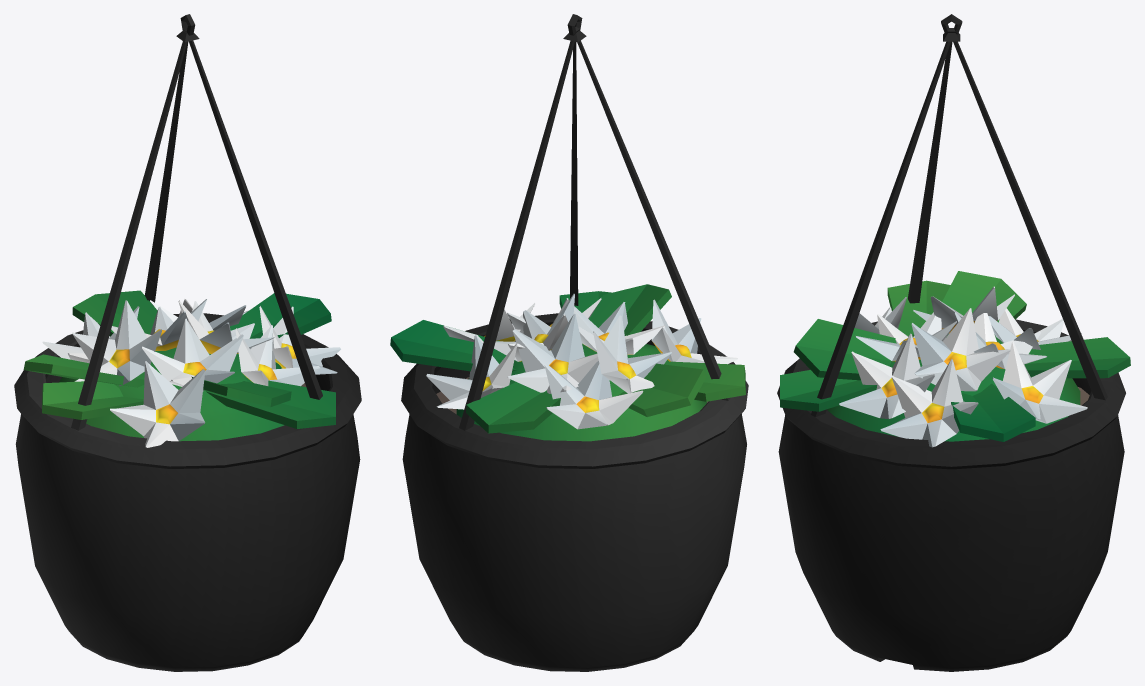
File: HangingFlowerPotWhite.fbx
3 views of the same model, side by side, from view 1: azimuth 30°, elevation 25°; view 2: azimuth 150°, elevation 25°; view 3: azimuth 270°, elevation 25° (orthographic).
Parts seen in each view (by area): view 1: HangingFlowerPotWhite; view 2: HangingFlowerPotWhite; view 3: HangingFlowerPotWhite.
Part boxes in pixels (bbox=[...]): HangingFlowerPotWhite: bbox=[14, 14, 361, 671]; HangingFlowerPotWhite: bbox=[390, 14, 748, 671]; HangingFlowerPotWhite: bbox=[777, 14, 1130, 671].
Size of the model in its own units: 0.8215 by 1.5 by 0.7946.
